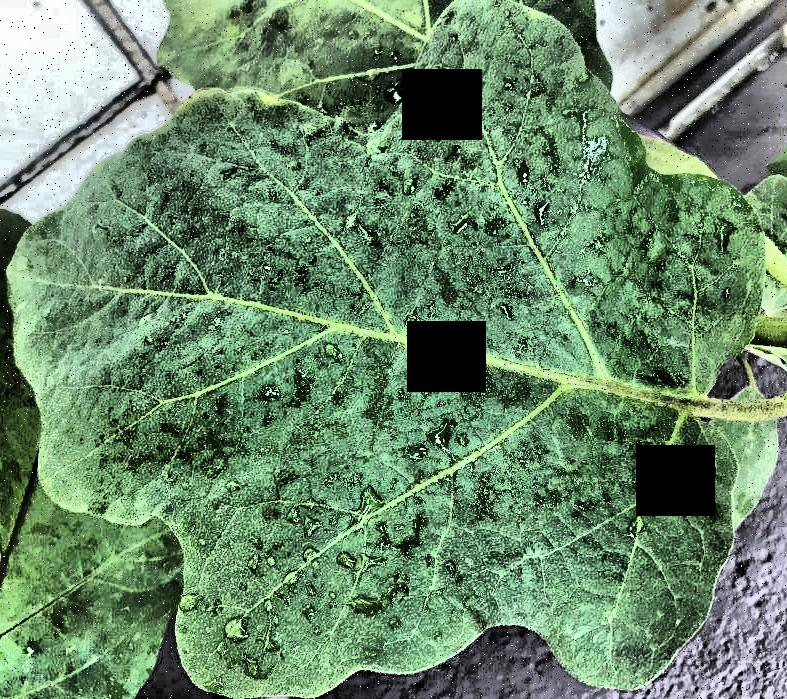HEALTHY: (1, 1, 787, 699)
